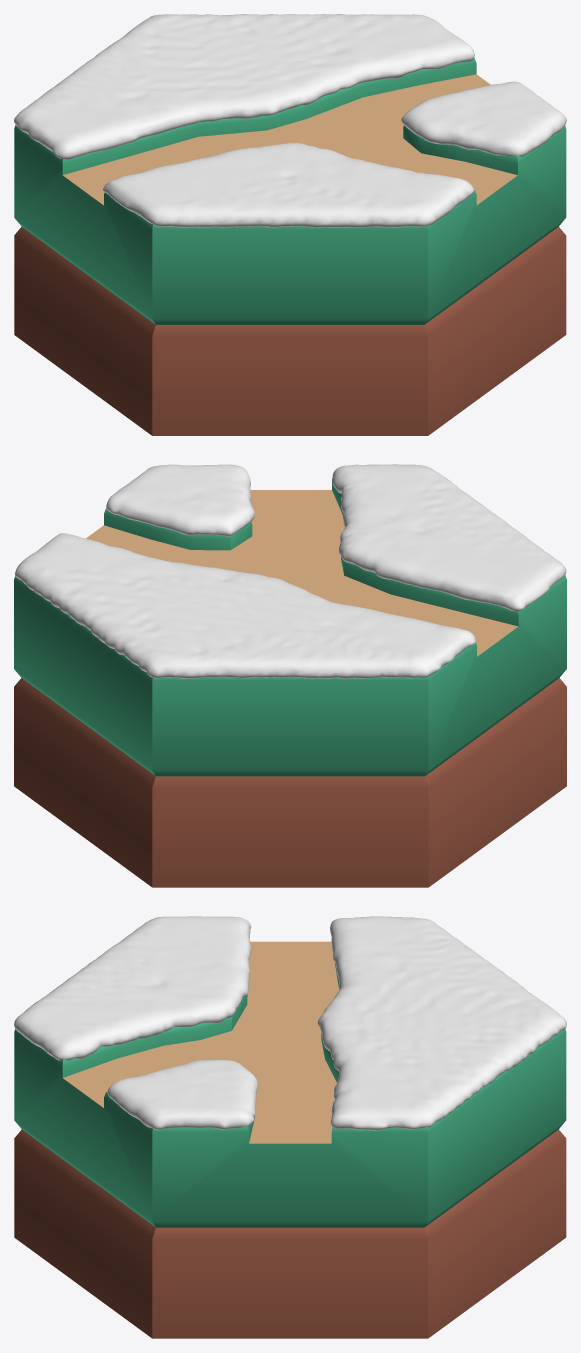
File: snow_hex_forest_roadE_detail.fbx
3 views of the same model, one above another, from view 1: azimuth 30°, elevation 25°; view 2: azimuth 150°, elevation 25°; view 3: azimuth 270°, elevation 25° (orthographic).
Parts seen in each view (by area): view 1: SnowBall.001, hex_forest_roadE_detail.002, hex_forest_roadE_detail.001, hex_forest_roadE_detail; view 2: SnowBall.001, hex_forest_roadE_detail.002, hex_forest_roadE_detail.001, hex_forest_roadE_detail; view 3: SnowBall.001, hex_forest_roadE_detail.002, hex_forest_roadE_detail.001, hex_forest_roadE_detail.
Part boxes in pixels (<box>): SnowBall.001: <box>14,14,566,227</box>; hex_forest_roadE_detail.002: <box>14,226,566,435</box>; hex_forest_roadE_detail.001: <box>14,58,566,324</box>; hex_forest_roadE_detail: <box>63,74,517,205</box>; SnowBall.001: <box>15,464,566,678</box>; hex_forest_roadE_detail.002: <box>14,678,566,887</box>; hex_forest_roadE_detail.001: <box>14,477,566,776</box>; hex_forest_roadE_detail: <box>86,490,518,656</box>; SnowBall.001: <box>14,916,566,1130</box>; hex_forest_roadE_detail.002: <box>14,1129,566,1338</box>; hex_forest_roadE_detail.001: <box>14,938,566,1227</box>; hex_forest_roadE_detail: <box>63,941,339,1143</box>.
Size of the model in its own units: 204 by 104 by 231.
